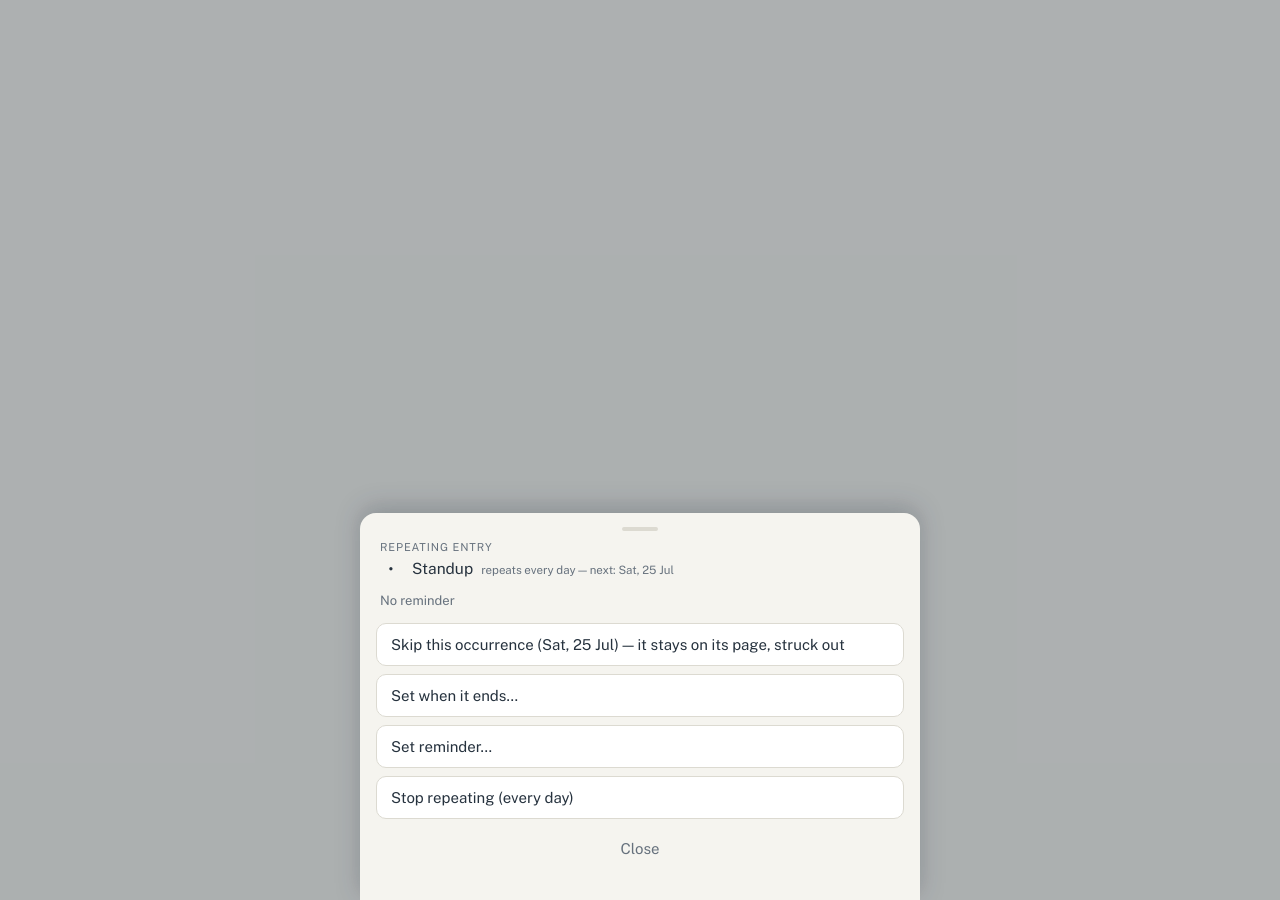
Test: when it ends › the step replaces the actions rather than unfolding beneath them
The width and height of the screenshot is (1280, 900).
Click the button "Set when it ends…" at (454, 696), box [376,674,904,717]
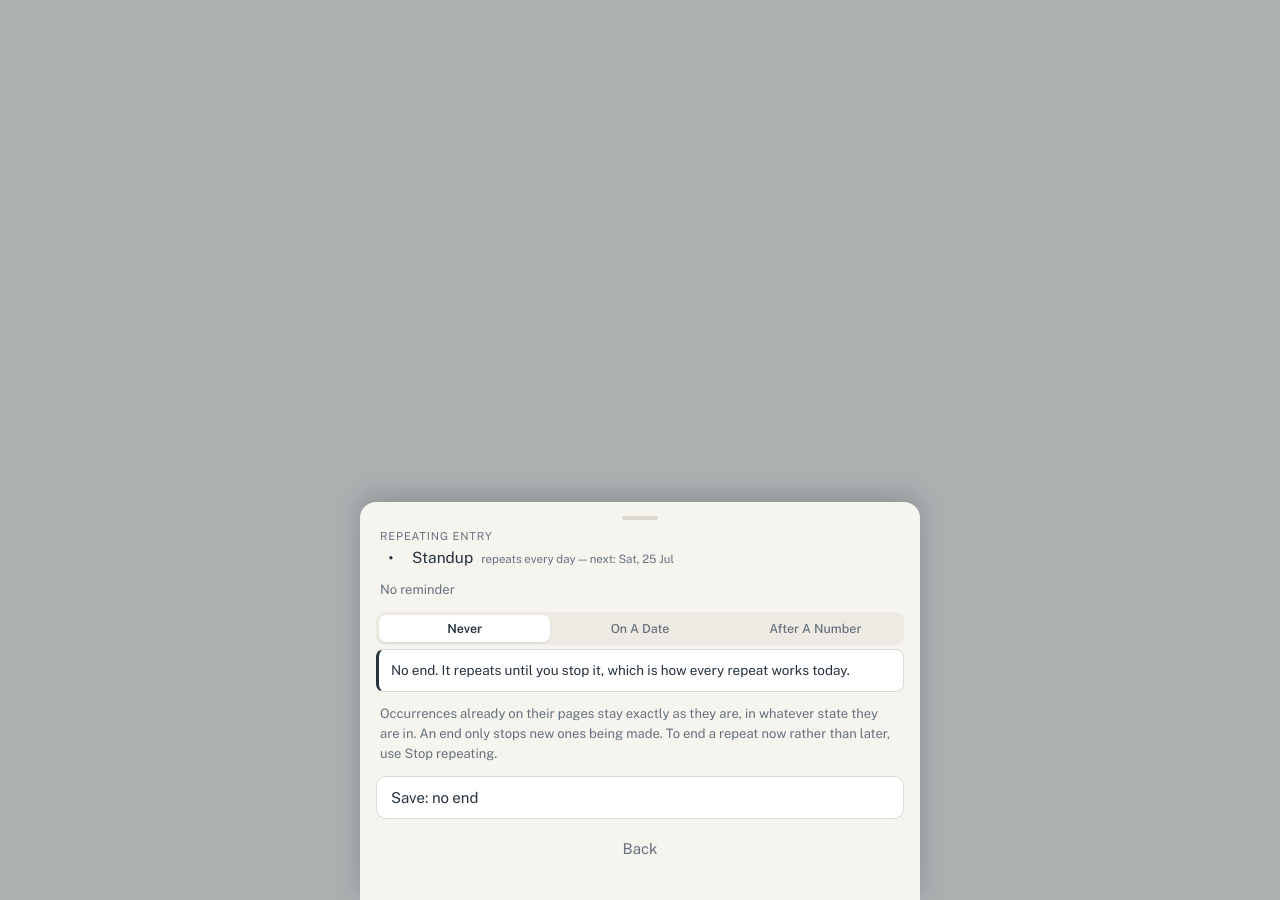
Expected: the button "Stop repeating" is not shown
Expected: the element named "When it ends" is shown, [376,612,904,645]
Expected: the button "Skip this occurrence" is gone
